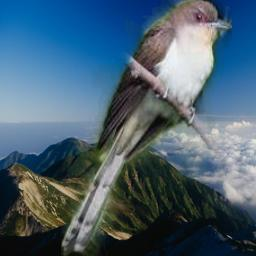Cuckoo: (61, 0, 232, 256)
